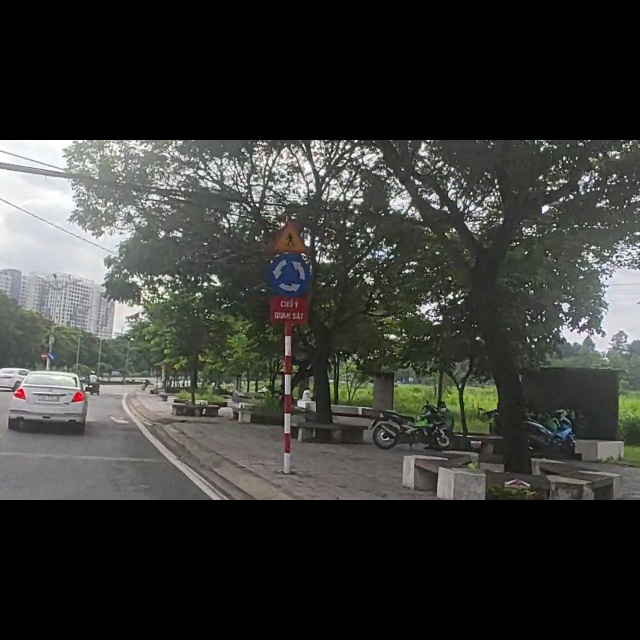bien_hieu_lenh: (269, 205, 311, 276), (271, 141, 313, 203), (48, 376, 57, 393), (39, 376, 48, 391)
